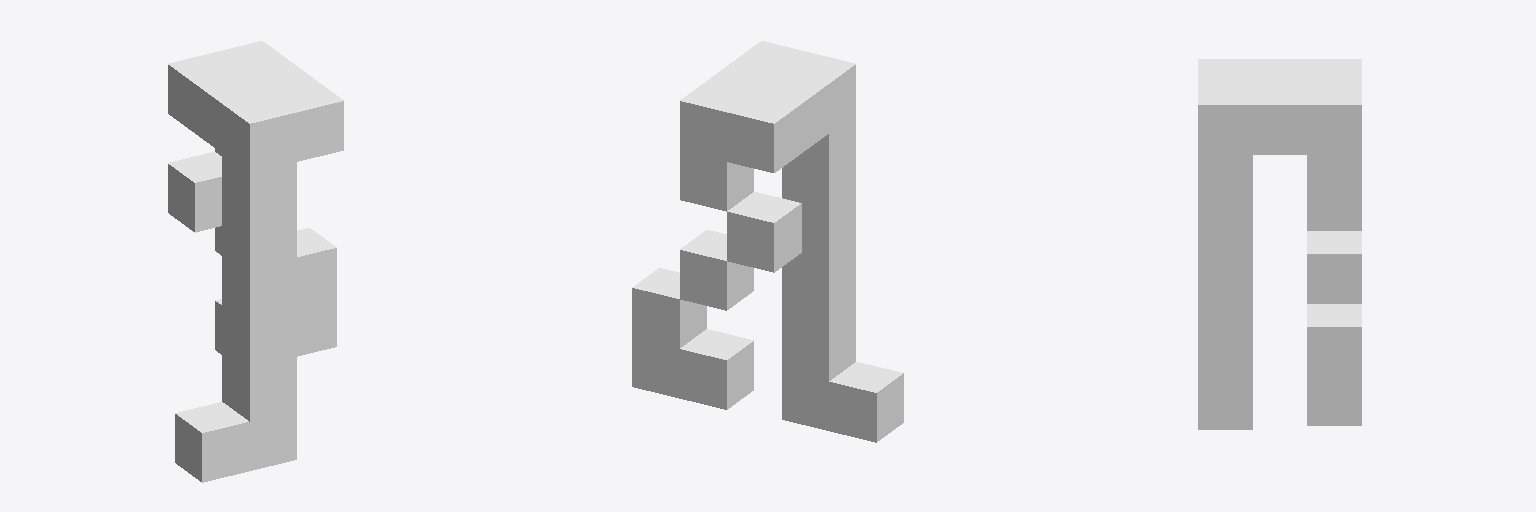
The model's file is thymea-7-torso_walk.obj.
The picture shows the model from 3 angles: view 1: azimuth 30°, elevation 25°; view 2: azimuth 150°, elevation 25°; view 3: azimuth 270°, elevation 25°; orthographic projection.
Parts seen in each view (by area): view 1: torso_walk; view 2: torso_walk; view 3: torso_walk.
Part boxes in pixels (x1,y1,x2,y2): torso_walk: (168,41,343,482); torso_walk: (632,41,903,442); torso_walk: (1198,59,1361,429).
Size of the model in its own units: 0.4 by 0.7 by 0.3.